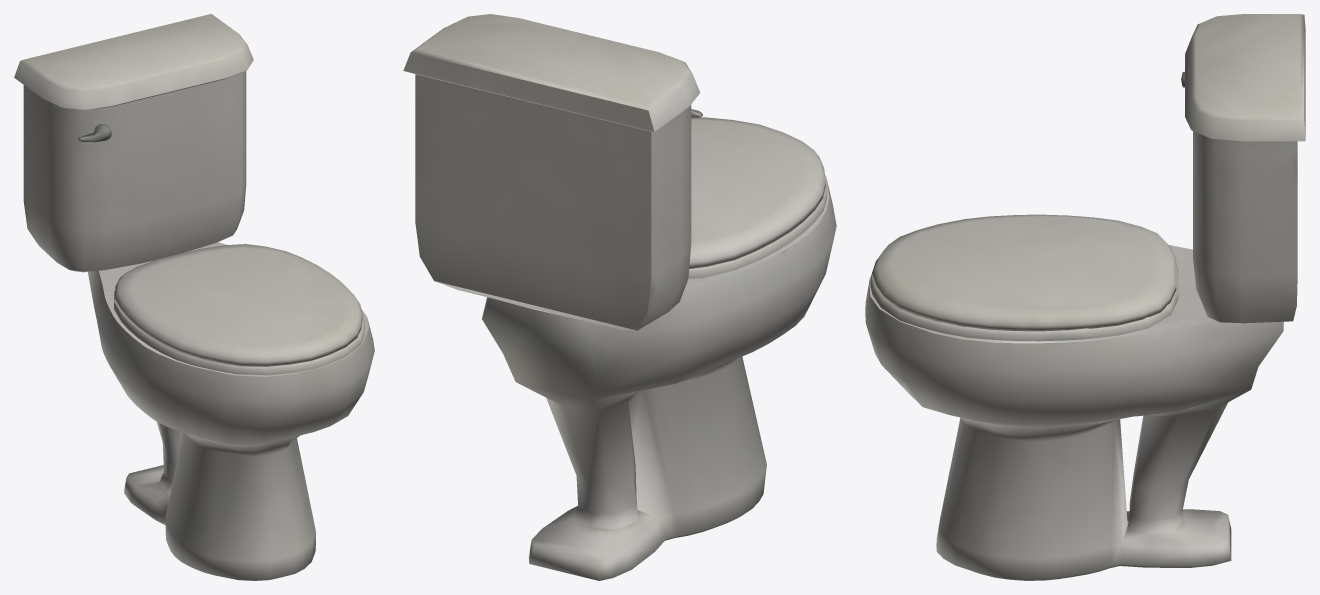
File: T_Toilet.FBX
3 views of the same model, side by side, from view 1: azimuth 30°, elevation 25°; view 2: azimuth 150°, elevation 25°; view 3: azimuth 270°, elevation 25° (orthographic). The views are drawn at different scales.
Visible parts, largest first — view 1: T_Toilet, T_Toilet_Lid, T_Toilet_Lid_B; view 2: T_Toilet, T_Toilet_Lid, T_Toilet_Lid_B; view 3: T_Toilet, T_Toilet_Lid, T_Toilet_Lid_B.
Part boxes in pixels (x1,y1,x2,y2): T_Toilet: (14,14,374,580); T_Toilet_Lid: (115,244,362,366); T_Toilet_Lid_B: (114,291,364,375); T_Toilet: (403,14,836,580); T_Toilet_Lid: (689,117,825,268); T_Toilet_Lid_B: (688,181,826,278); T_Toilet: (865,14,1305,580); T_Toilet_Lid: (872,214,1176,331); T_Toilet_Lid_B: (870,264,1178,341).
Bounding box in the file's own units: 39.31 × 74.2 × 61.58.
